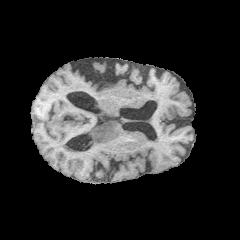glioma: (62, 122, 117, 153)
